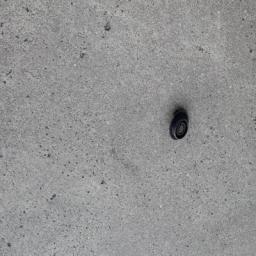FOD: (164, 105, 196, 145)
